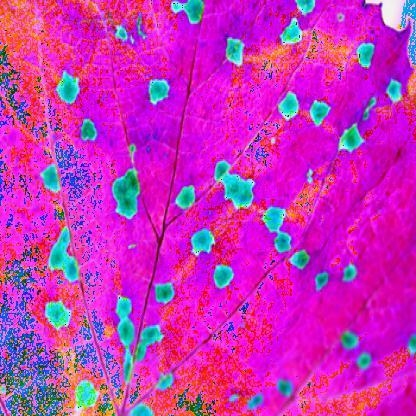grape leaf: (3, 3, 412, 414)
